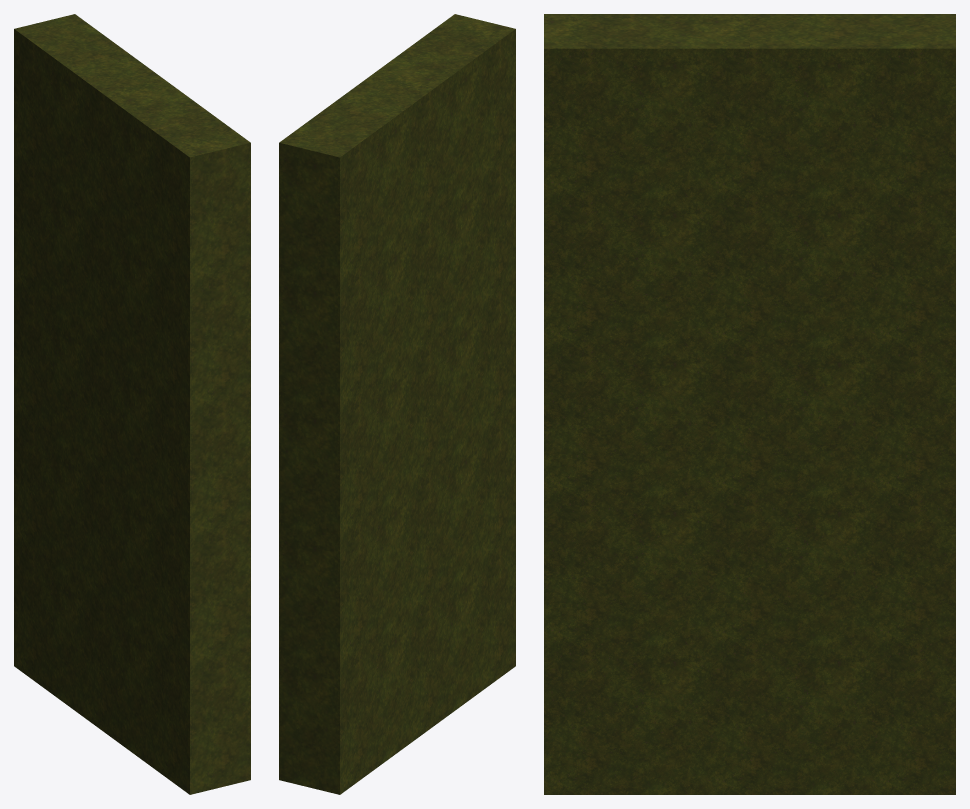
The model's file is GateEnd.fbx.
The picture shows the model from 3 angles, left to right: view 1: azimuth 30°, elevation 25°; view 2: azimuth 150°, elevation 25°; view 3: azimuth 270°, elevation 25°; orthographic projection. The views are drawn at different scales.
Visible parts, largest first — view 1: Cube.090, Cube.091; view 2: Cube.091, Cube.090; view 3: Cube.090, Cube.091.
Boxes of the visible parts, x1,y1,x2,y2 form: Cube.090: (102,78,250,794); Cube.091: (14,14,162,730); Cube.091: (279,78,427,794); Cube.090: (367,14,515,730); Cube.090: (544,14,749,794); Cube.091: (750,14,955,794).
Bounding box in the file's own units: 0.4 × 4 × 2.
